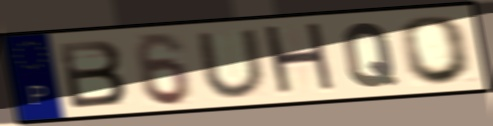6: (132, 29, 195, 108)
B: (55, 37, 130, 111)
H: (260, 20, 341, 100)
O: (398, 13, 478, 87)
Q: (340, 20, 400, 90)
U: (193, 26, 271, 100)
